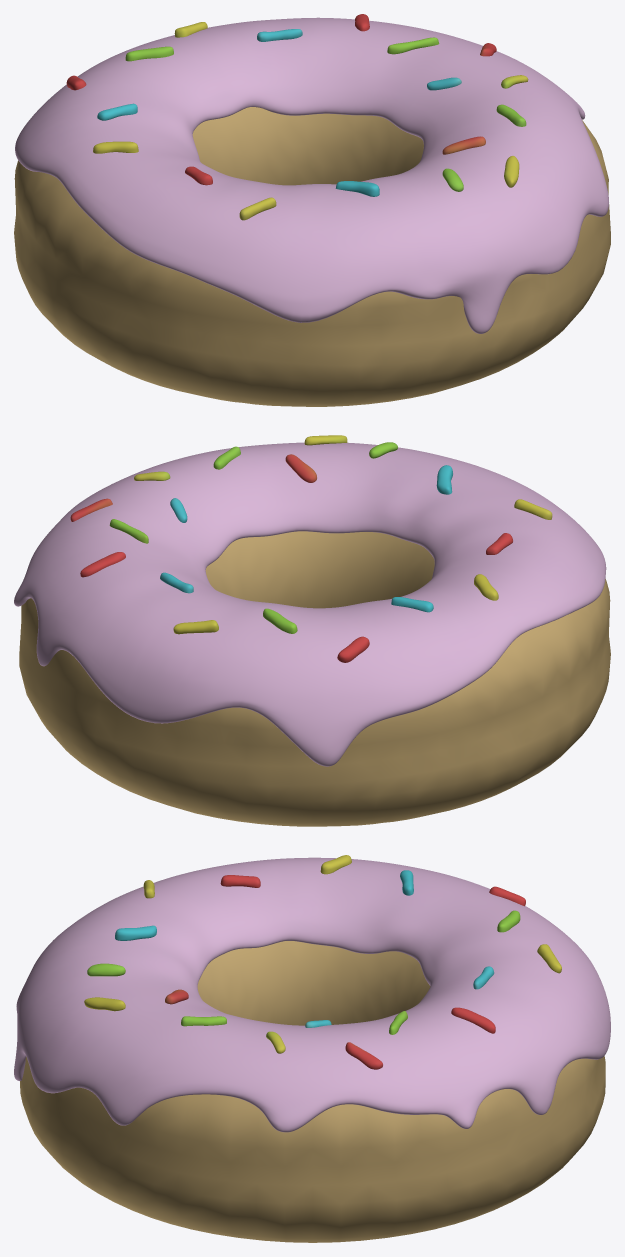
The model's file is donitsi.glb.
The picture shows the model from 3 angles, top to bottom: view 1: azimuth 30°, elevation 25°; view 2: azimuth 150°, elevation 25°; view 3: azimuth 270°, elevation 25°; orthographic projection.
Parts seen in each view (by area): view 1: Object_11, Object_10, Object_3, Object_9, Object_8, Object_2, Object_5, Object_7, Object_6, Object_4; view 2: Object_11, Object_10, Object_3, Object_2, Object_7, Object_5, Object_9, Object_8, Object_4, Object_6; view 3: Object_11, Object_10, Object_6, Object_3, Object_2, Object_7, Object_9, Object_4, Object_5, Object_8.
Part boxes in pixels (left/top/right/bottom): Object_11: left=15, top=17, right=608, bottom=333; Object_10: left=14, top=107, right=610, bottom=406; Object_3: left=185, top=136, right=485, bottom=220; Object_9: left=125, top=46, right=379, bottom=196; Object_8: left=97, top=37, right=439, bottom=120; Object_2: left=427, top=75, right=528, bottom=191; Object_5: left=174, top=22, right=302, bottom=41; Object_7: left=93, top=14, right=369, bottom=153; Object_6: left=480, top=43, right=519, bottom=187; Object_4: left=66, top=75, right=526, bottom=126; Object_11: left=14, top=442, right=606, bottom=766; Object_10: left=19, top=531, right=610, bottom=826; Object_3: left=285, top=454, right=552, bottom=554; Object_2: left=134, top=442, right=397, bottom=522; Object_7: left=80, top=552, right=498, bottom=600; Object_5: left=160, top=572, right=218, bottom=634; Object_9: left=263, top=465, right=452, bottom=633; Object_8: left=109, top=519, right=433, bottom=612; Object_4: left=213, top=446, right=369, bottom=662; Object_6: left=70, top=435, right=347, bottom=521; Object_11: left=14, top=857, right=610, bottom=1132; Object_10: left=20, top=941, right=605, bottom=1242; Object_6: left=84, top=997, right=382, bottom=1069; Object_3: left=143, top=875, right=260, bottom=1004; Object_2: left=87, top=963, right=331, bottom=1053; Object_7: left=320, top=855, right=495, bottom=1033; Object_9: left=115, top=910, right=520, bottom=940; Object_4: left=181, top=886, right=525, bottom=1026; Object_5: left=473, top=944, right=561, bottom=989; Object_8: left=389, top=870, right=413, bottom=1034.
Size of the model in its own units: 1.93 by 0.7362 by 1.95.
